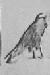G5: (5, 1, 45, 75)
